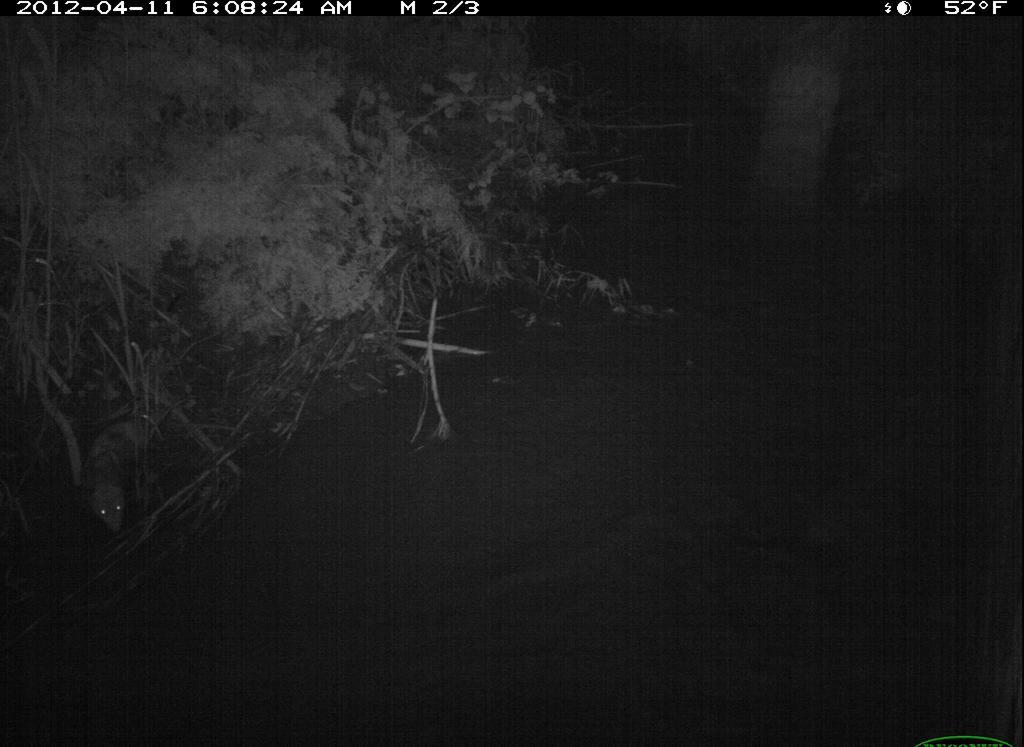opossum: (68, 378, 190, 550)
